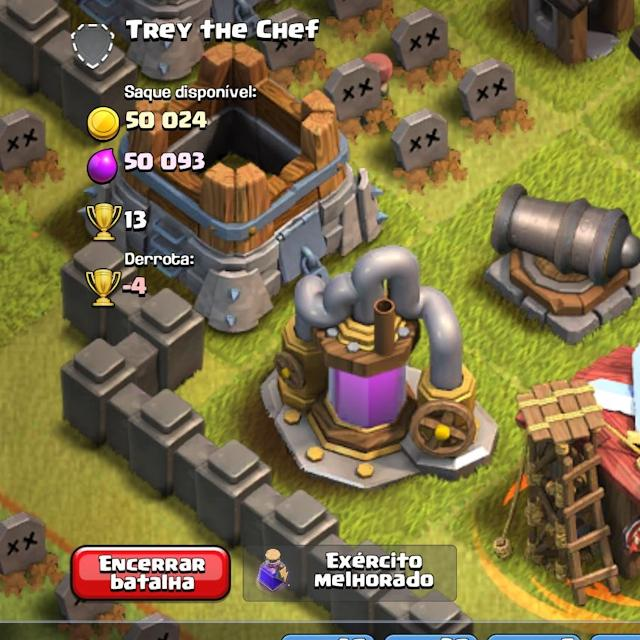Canhao: (482, 174, 640, 343)
ValueCoin: (122, 105, 220, 139)
ValueElixir: (122, 148, 214, 176)
